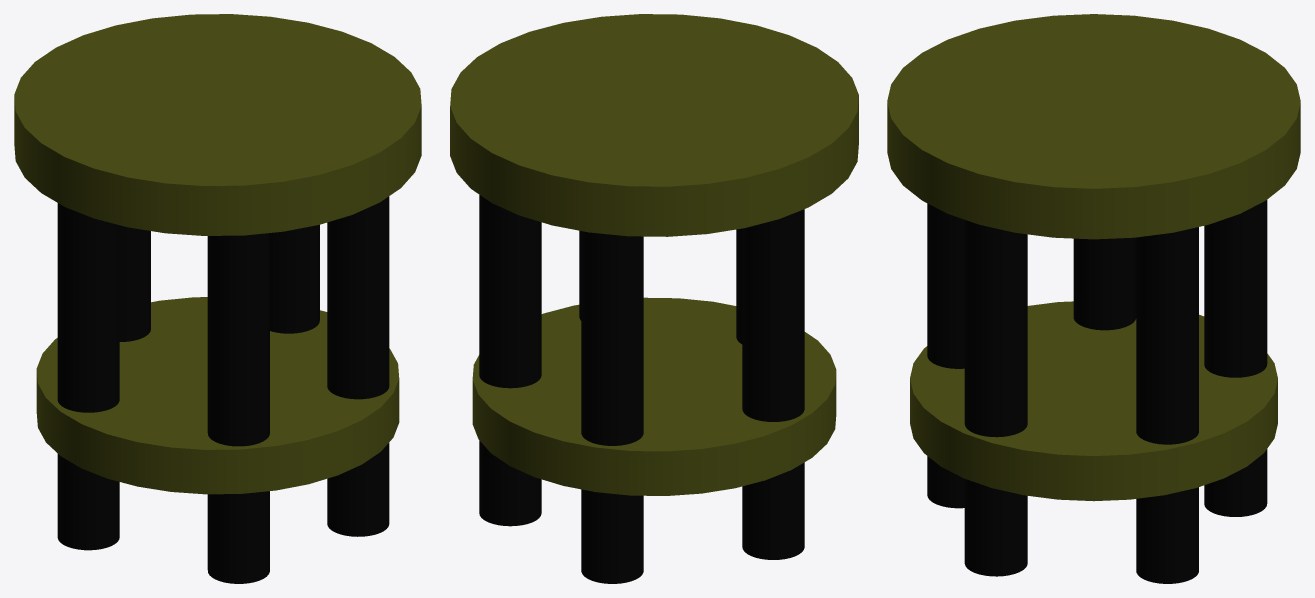
Rendered from chair1(v2).fbx.
3 views of the same model, side by side, from view 1: azimuth 30°, elevation 25°; view 2: azimuth 150°, elevation 25°; view 3: azimuth 270°, elevation 25° (orthographic).
Visible parts, largest first — view 1: chair; view 2: chair; view 3: chair.
Part boxes in pixels (left/top/right/bottom): chair: left=14, top=14, right=421, bottom=583; chair: left=450, top=14, right=858, bottom=583; chair: left=887, top=14, right=1300, bottom=583.
Bounding box in the file's own units: 225 × 250 × 225.
